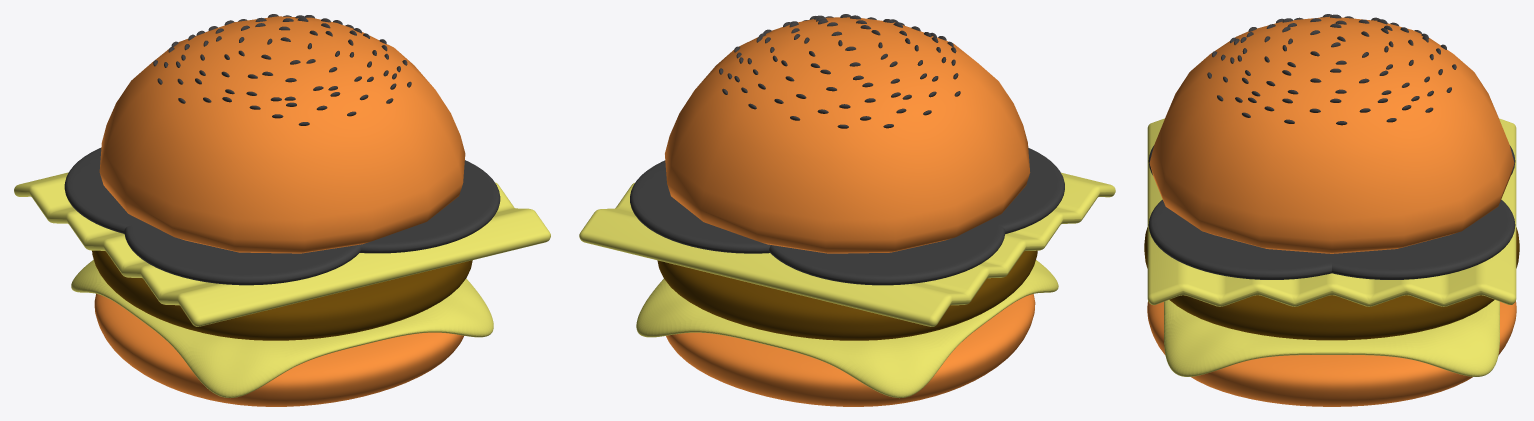
Rendered from hamburger.fbx.
The picture shows the model from 3 angles, left to right: view 1: azimuth 30°, elevation 25°; view 2: azimuth 150°, elevation 25°; view 3: azimuth 270°, elevation 25°; orthographic projection.
Parts seen in each view (by area): view 1: Cube, Plane.001, Cylinder, Cube.001, Plane, Cube.002; view 2: Cube, Plane.001, Cylinder, Cube.001, Plane, Cube.002; view 3: Cube, Cylinder, Plane.001, Plane, Cube.001, Cube.002.
Part boxes in pixels (x1=…): Cube: x1=99, y1=16, x2=465, y2=253; Plane.001: x1=14, y1=172, x2=550, y2=326; Cylinder: x1=64, y1=148, x2=500, y2=285; Cube.001: x1=94, y1=293, x2=463, y2=406; Plane: x1=71, y1=259, x2=493, y2=397; Cube.002: x1=92, y1=250, x2=472, y2=340; Cube: x1=665, y1=17, x2=1030, y2=253; Plane.001: x1=579, y1=172, x2=1115, y2=326; Cylinder: x1=630, y1=148, x2=1064, y2=285; Cube.001: x1=666, y1=294, x2=1035, y2=406; Plane: x1=636, y1=260, x2=1058, y2=398; Cube.002: x1=657, y1=250, x2=1037, y2=340; Cube: x1=1149, y1=16, x2=1514, y2=253; Cylinder: x1=1148, y1=146, x2=1515, y2=279; Plane.001: x1=1147, y1=118, x2=1516, y2=306; Plane: x1=1164, y1=300, x2=1499, y2=376; Cube.001: x1=1147, y1=301, x2=1516, y2=406; Cube.002: x1=1144, y1=227, x2=1519, y2=340.
Bounding box in the file's own units: 2.03 × 1.83 × 1.7.
